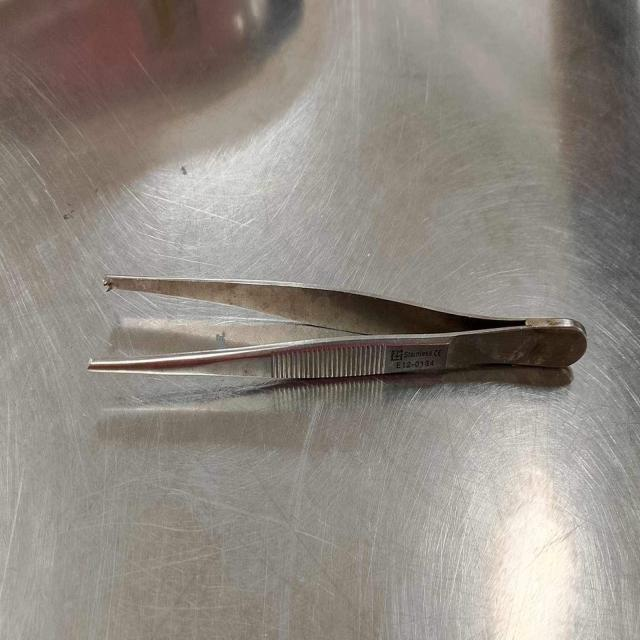General: (86, 270, 588, 392)
Pathological: (2, 3, 637, 636)
